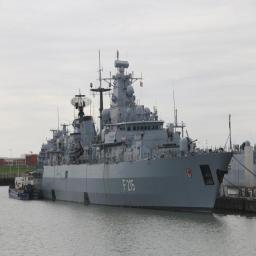Fragata: (29, 49, 235, 218)
